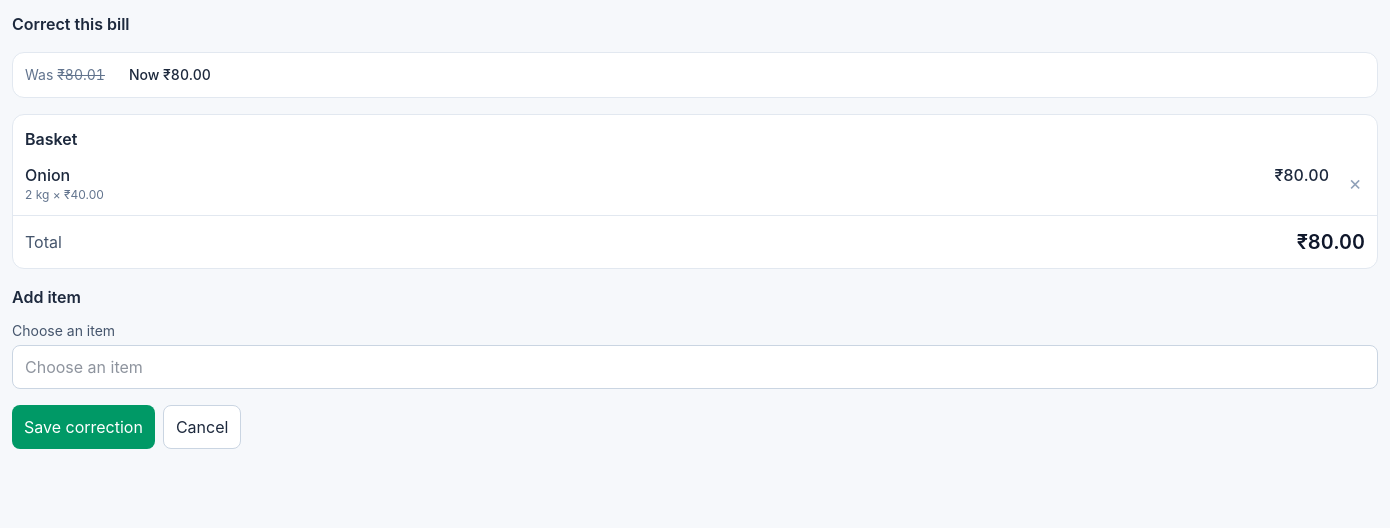
Scenario: correcting a pending bill › surfaces a refusal and keeps the basket on screen
expect the text "Onion" is shown: met, box [25,163,70,187]
Click the button with test id "amend-save". click: (83, 427)
box: [12,405,155,449]
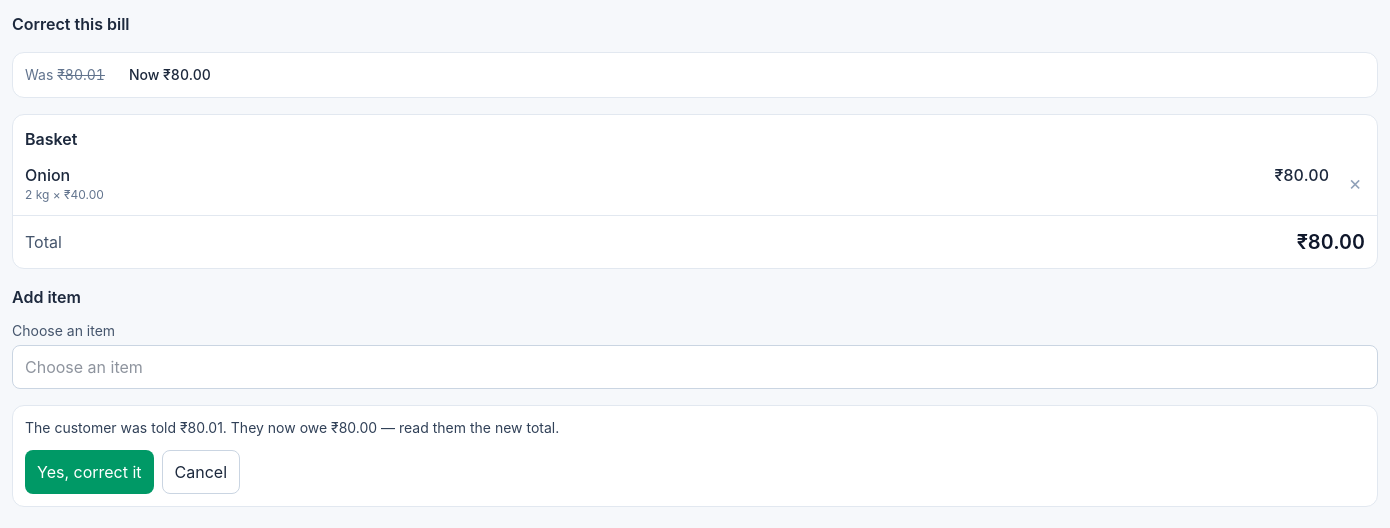
Click the button with test id "amend-confirm". click: (89, 472)
box: [25,450,154,494]
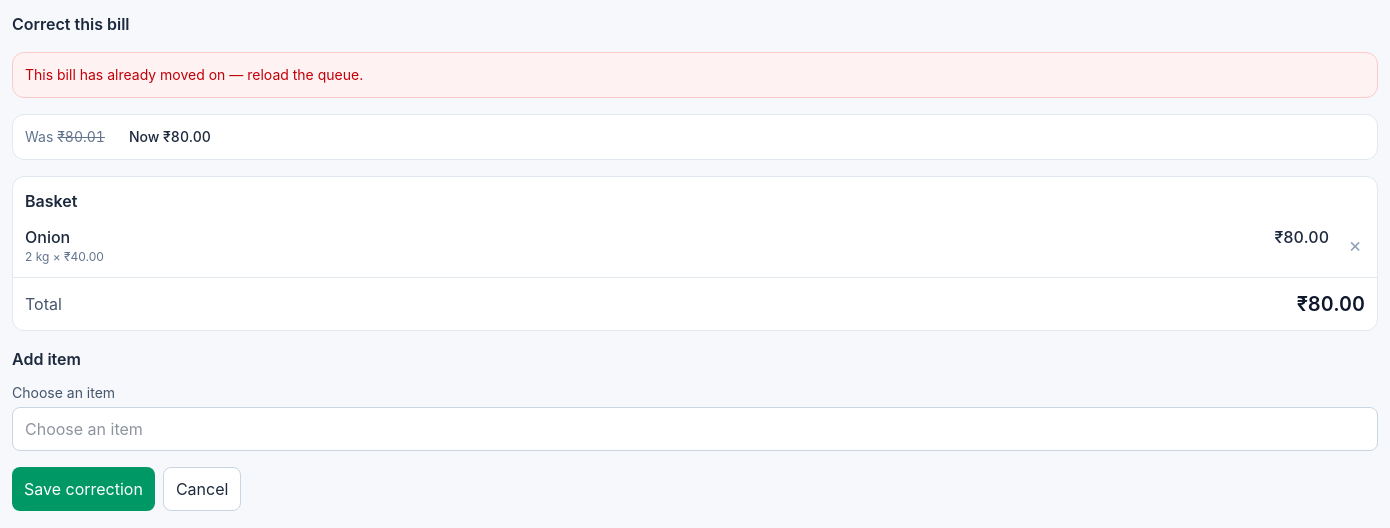
expect the text "Onion" is shown: met, box [25,225,70,249]
expect the text "This bill has already moved on — reload the queue." is shown: met, box [25,66,363,83]
